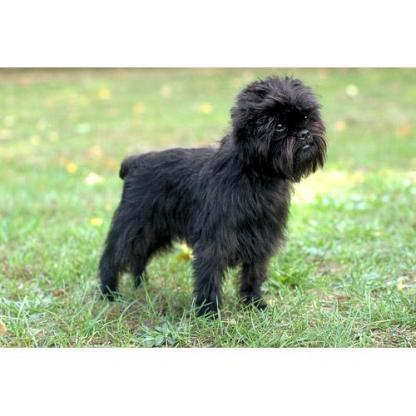affenpinscher: (96, 72, 326, 317)
